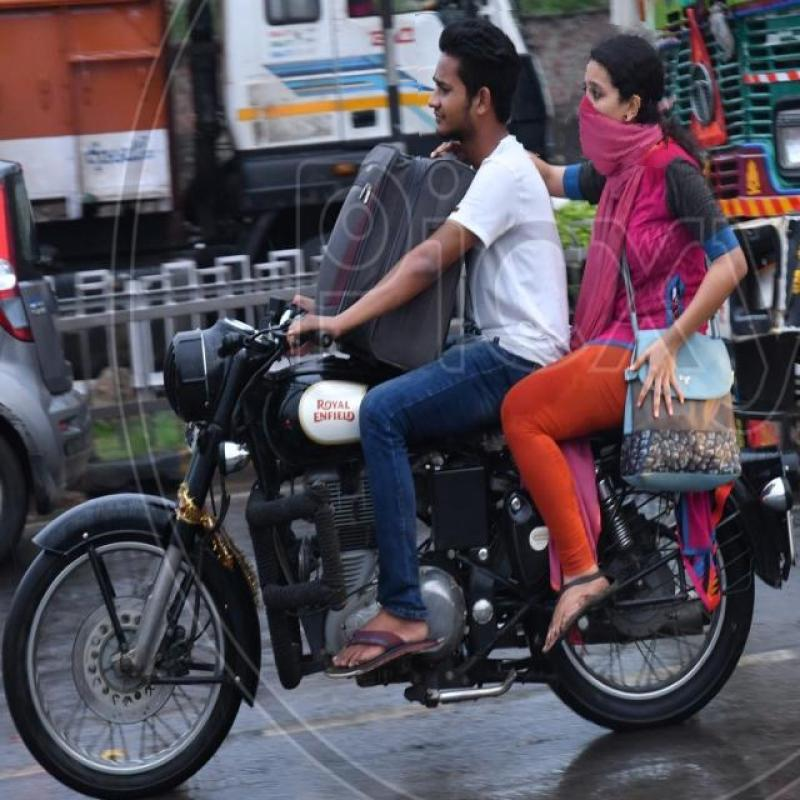nohelmet: (416, 10, 539, 159), (568, 23, 678, 166)
